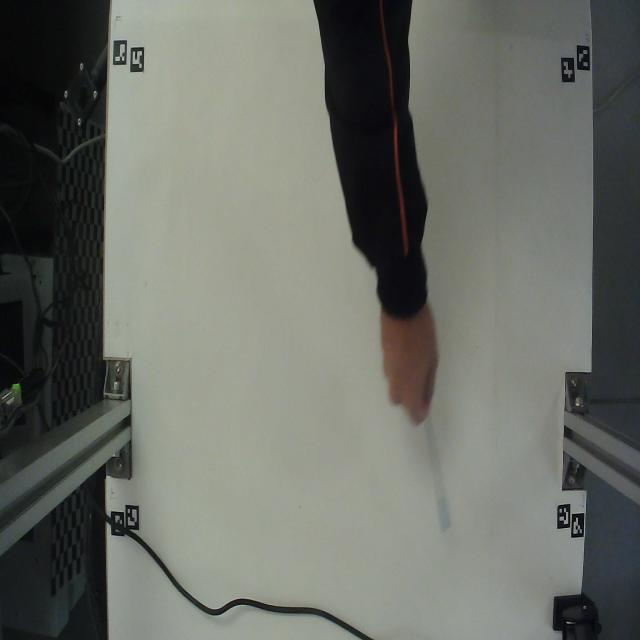NoPres: (417, 400, 454, 538)
